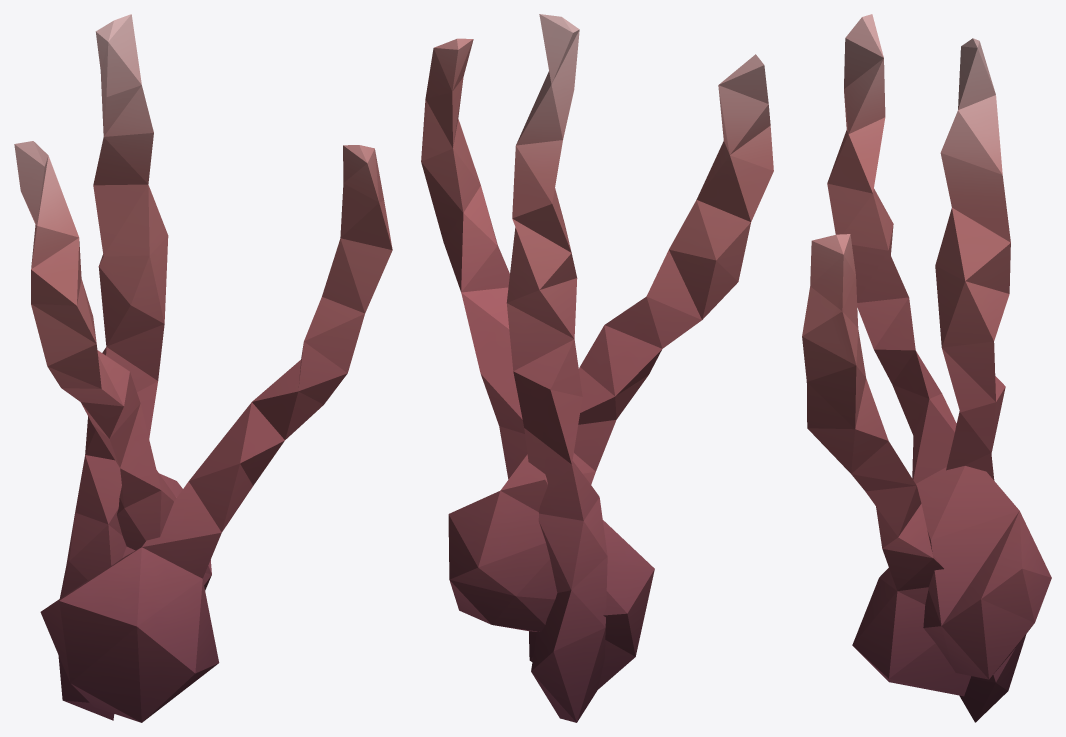
3 views of the same model, side by side, from view 1: azimuth 30°, elevation 25°; view 2: azimuth 150°, elevation 25°; view 3: azimuth 270°, elevation 25° (orthographic). The views are drawn at different scales.
Visible parts, largest first — view 1: Base_04; view 2: Base_04; view 3: Base_04.
Boxes of the visible parts, box(x1,y1,x2,y2) form: Base_04: box(14, 14, 392, 722); Base_04: box(421, 14, 773, 722); Base_04: box(802, 14, 1051, 722).
Bounding box in the file's own units: 2.01 × 3.8 × 1.26.
